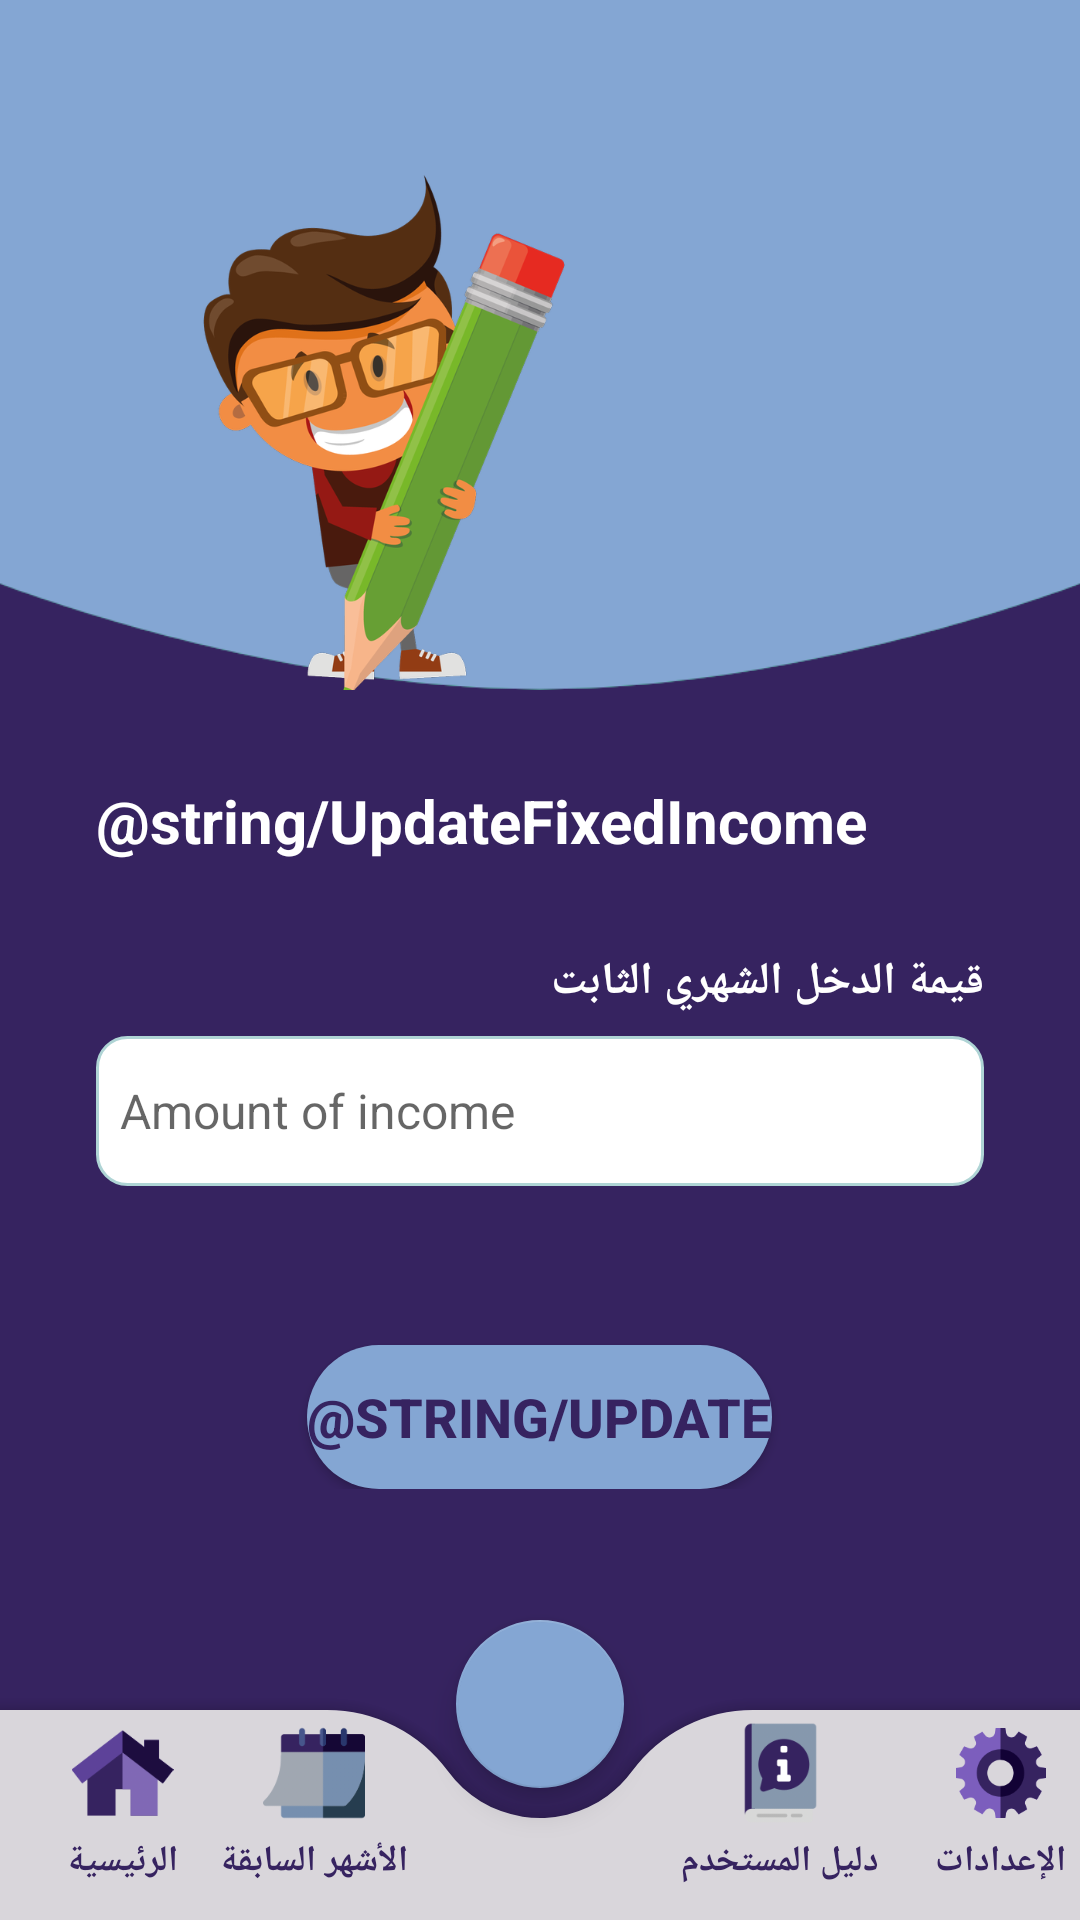

Screen size 1080w x 1920h. Icon name, then its center in pixels as point (x, y):
calendar masroofe: point (314, 1773)
